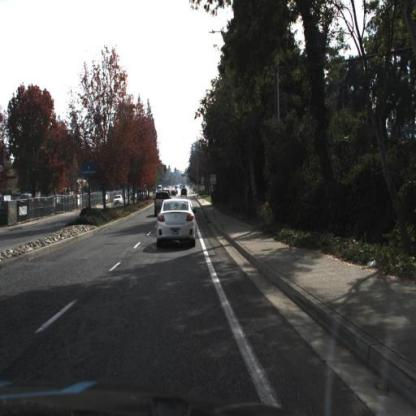car: (155, 195, 200, 249), (154, 190, 172, 213), (112, 193, 123, 206), (114, 194, 124, 206), (129, 190, 139, 202), (180, 187, 189, 200)
trafficLight-Green: (175, 167, 178, 175)
truck: (137, 185, 149, 201)
